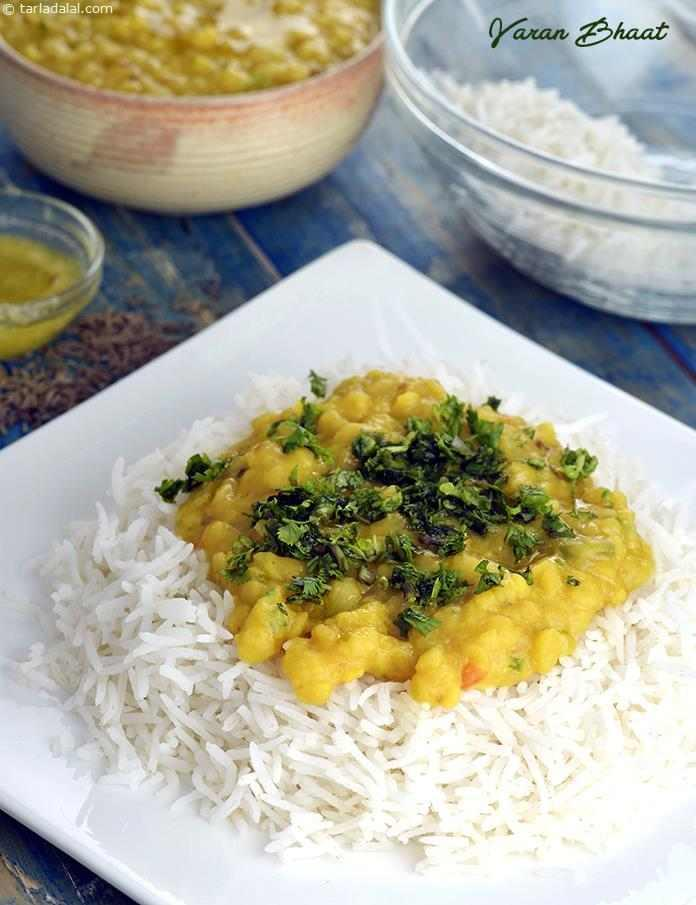dal: (166, 375, 671, 708)
rice: (44, 345, 696, 879)
